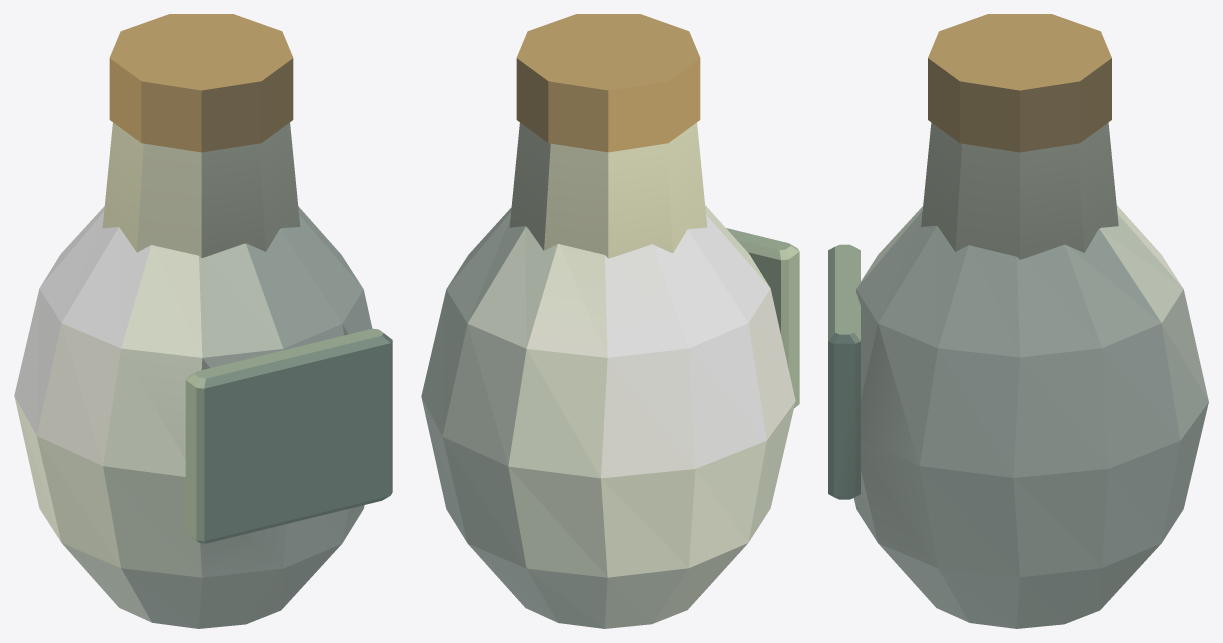
Rendered from find_goat_milk.glb.
3 renders of one model, left to right at view 1: azimuth 30°, elevation 25°; view 2: azimuth 150°, elevation 25°; view 3: azimuth 270°, elevation 25°, orthographic.
Parts seen in each view (by area): view 1: find_goat_milk; view 2: find_goat_milk; view 3: find_goat_milk.
Part boxes in pixels (x1,y1,x2,y2): find_goat_milk: [14, 14, 392, 628]; find_goat_milk: [421, 14, 799, 628]; find_goat_milk: [828, 14, 1208, 628].
Bounding box in the file's own units: 0.3278 × 0.55 × 0.3344.
